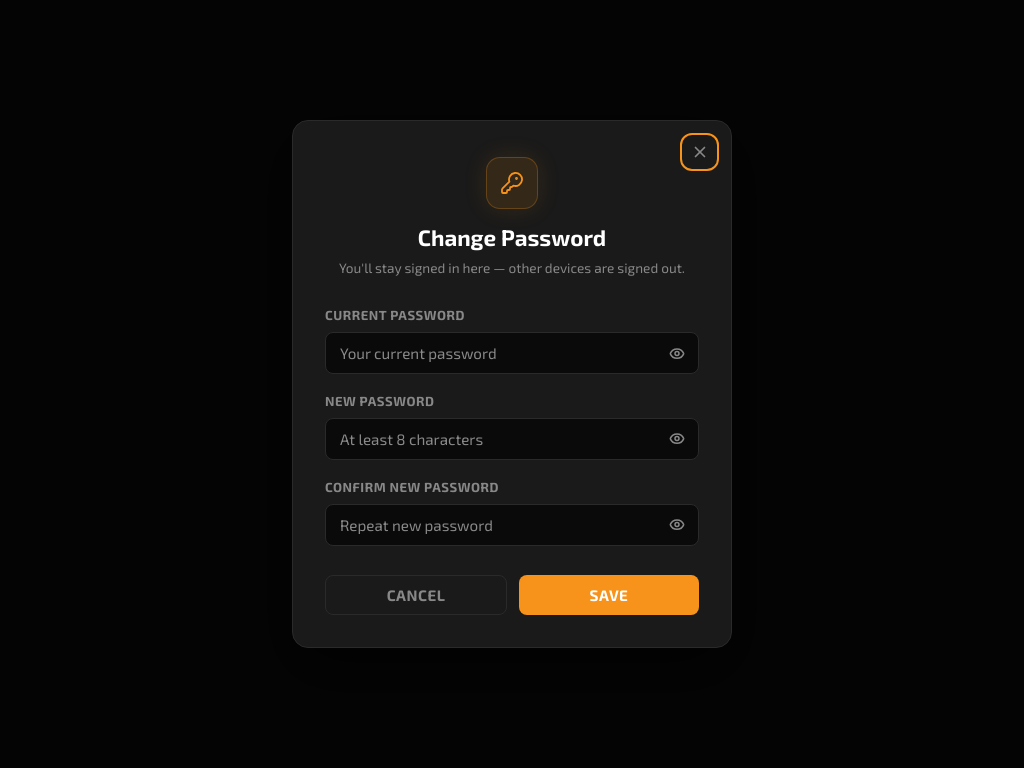
Test: ChangePasswordModal › rejects a new password equal to the current one
Type "samepassword1" into the password field labelled "Current Password".
click(512, 353); type("samepassword1")  # box top-left (325, 332), bottom-right (699, 374)
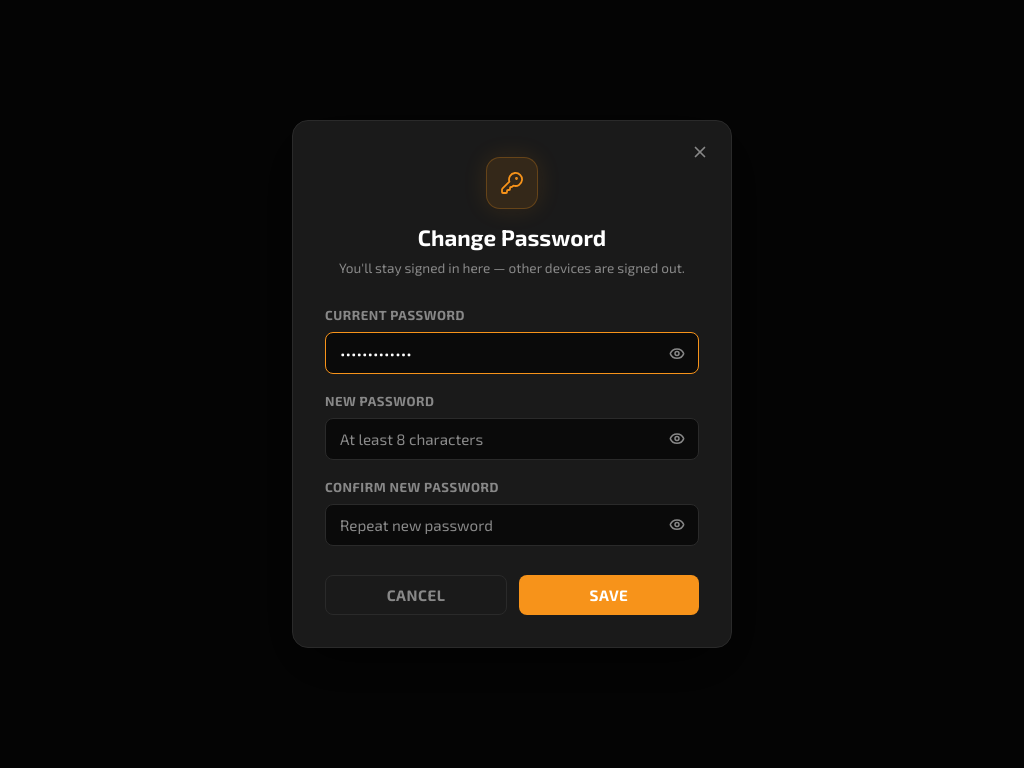
Type "samepassword1" into the password field labelled "New Password".
click(512, 439); type("samepassword1")  # box top-left (325, 418), bottom-right (699, 460)
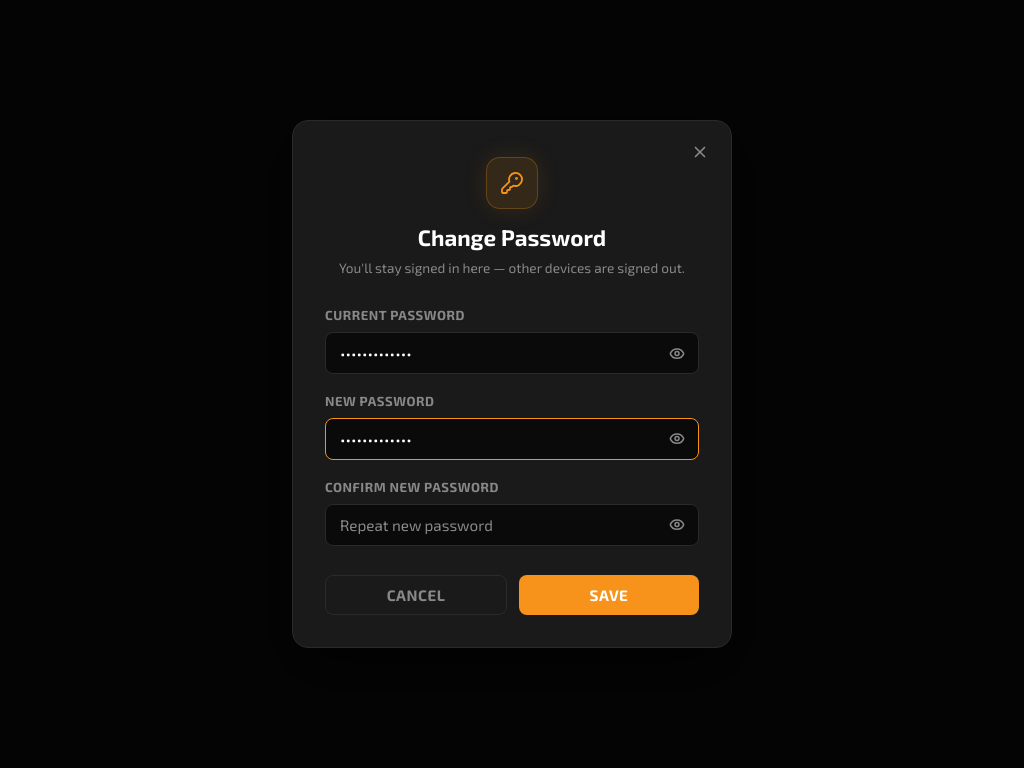
Type "samepassword1" into the password field labelled "Confirm New Password".
click(512, 525); type("samepassword1")  # box top-left (325, 504), bottom-right (699, 546)
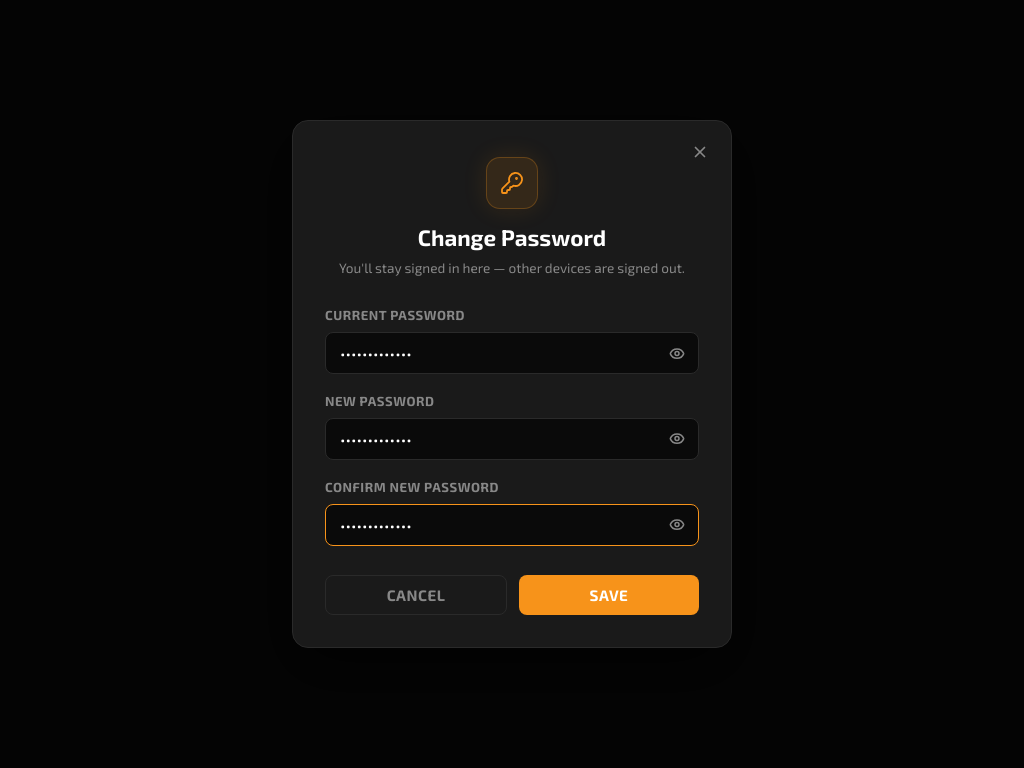
Click the button "Save".
click(609, 595)  # box top-left (519, 575), bottom-right (699, 615)
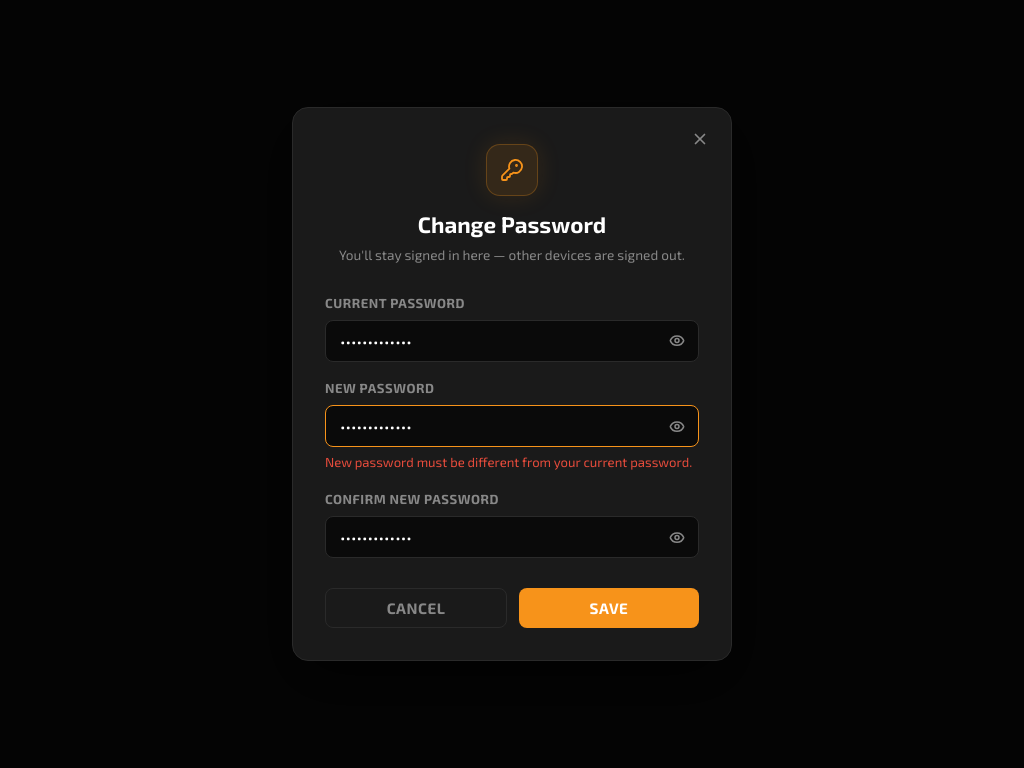
Check: the text "New password must be different from your current password." is shown, box top-left (325, 453), bottom-right (699, 473)
